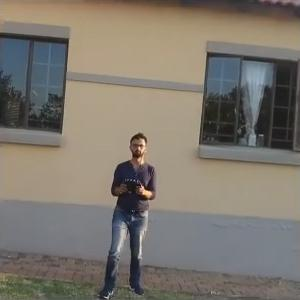follow: (91, 125, 159, 298)
